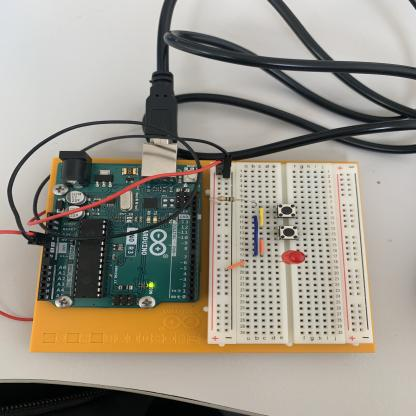5V: (25, 156, 224, 236), (0, 220, 27, 329)
ARDUINO: (41, 162, 202, 310)
Breadboard: (208, 162, 377, 346)
Button: (277, 204, 296, 218), (279, 226, 298, 240)
GND: (2, 111, 192, 244), (26, 132, 208, 245)
LED: (282, 250, 306, 265)
Long wire: (252, 215, 259, 256)
Resistor: (216, 196, 237, 202)
Short wire: (226, 261, 245, 271), (259, 208, 264, 226), (259, 239, 264, 254)
